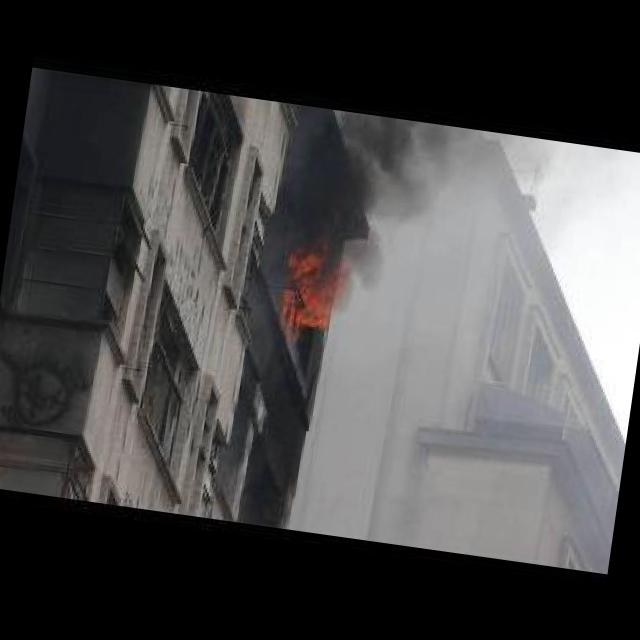Fire: (274, 231, 348, 344)
Smoke: (325, 108, 486, 274)
